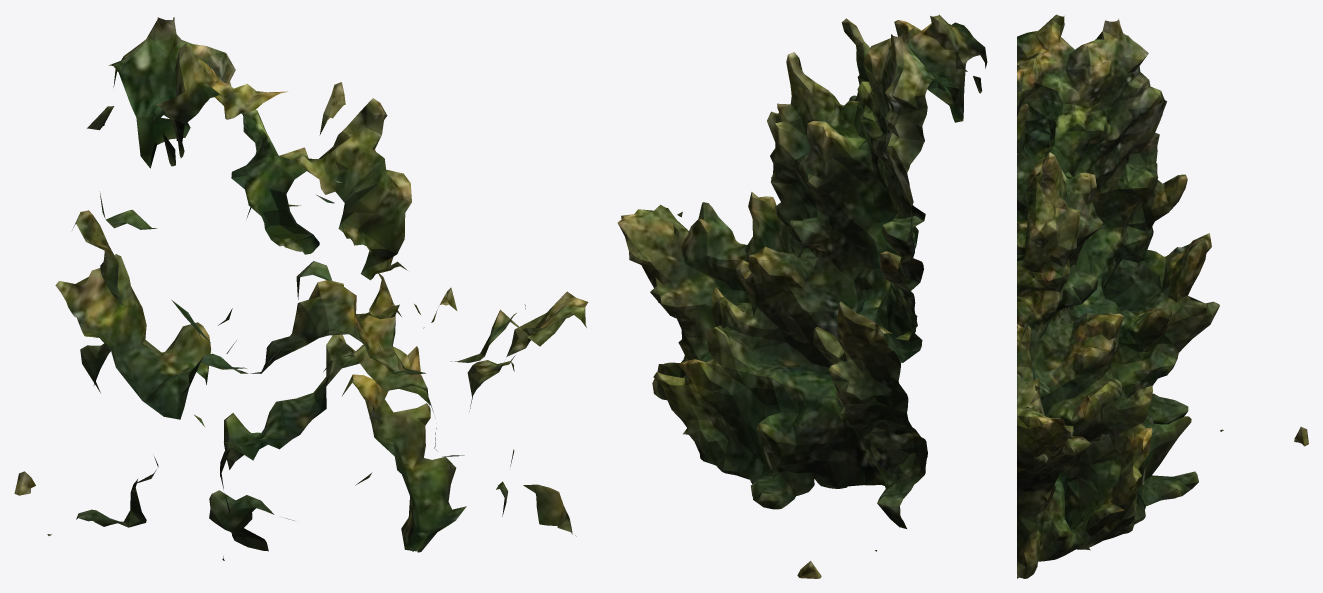
3 renders of one model, left to right at view 1: azimuth 30°, elevation 25°; view 2: azimuth 150°, elevation 25°; view 3: azimuth 270°, elevation 25°, orthographic. The views are drawn at different scales.
Bounding box in the file's own units: 2.66 × 3.35 × 2.07.
3 materials, 3 textured.
